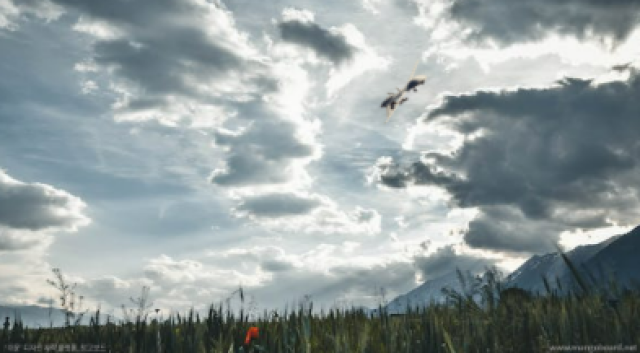military drone: (378, 58, 426, 124)
